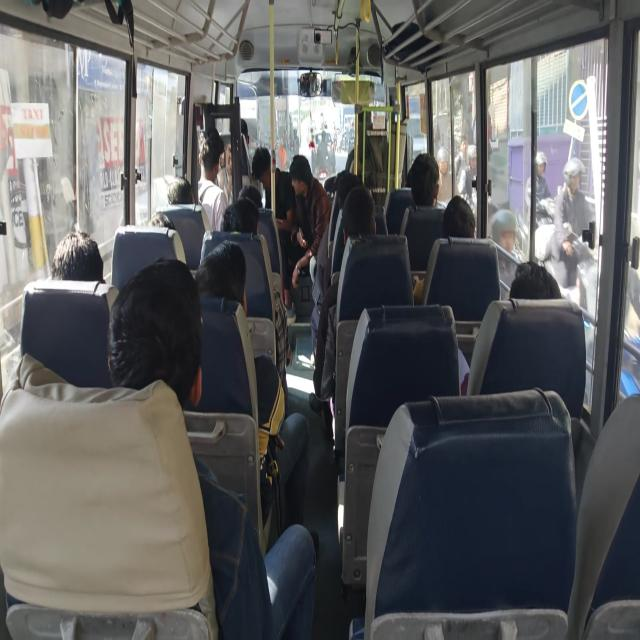person: (102, 260, 208, 396), (199, 235, 257, 328), (49, 224, 102, 287), (507, 253, 563, 308), (338, 183, 386, 239), (406, 149, 446, 207), (219, 190, 259, 243), (193, 118, 225, 183), (286, 158, 328, 204), (442, 194, 482, 240), (348, 94, 378, 143), (163, 171, 194, 210), (232, 177, 266, 211), (250, 142, 275, 185), (140, 208, 178, 235), (329, 170, 365, 194), (231, 114, 252, 152), (403, 159, 416, 189)
